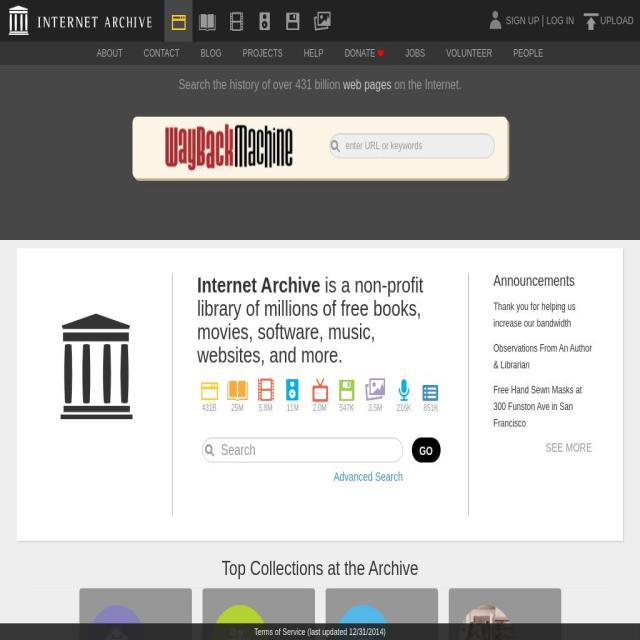button: (136, 122, 320, 172), (582, 8, 634, 34), (333, 468, 403, 485), (411, 438, 441, 462), (224, 374, 250, 399), (362, 374, 388, 399), (392, 374, 416, 399), (446, 48, 492, 61), (255, 374, 278, 399), (308, 374, 331, 399), (335, 374, 358, 399), (198, 374, 220, 399), (282, 374, 304, 399), (420, 374, 442, 399), (503, 14, 542, 28), (243, 48, 283, 61), (344, 48, 384, 61), (143, 48, 180, 61), (544, 14, 577, 28), (513, 48, 544, 61), (96, 48, 123, 61), (200, 48, 222, 61), (405, 48, 426, 61), (304, 48, 324, 61)
field: (201, 438, 403, 462), (329, 134, 495, 158)
heading: (26, 558, 614, 579), (493, 273, 592, 289)
image: (161, 122, 295, 172), (458, 605, 574, 640), (89, 605, 145, 640), (212, 605, 268, 640), (335, 605, 391, 640), (37, 16, 152, 28)
link: (493, 384, 582, 429), (493, 342, 592, 371), (493, 301, 576, 329), (254, 626, 386, 636), (313, 0, 331, 42), (199, 0, 216, 42), (342, 77, 392, 91), (285, 0, 301, 42), (171, 0, 186, 42), (229, 0, 244, 42), (257, 0, 272, 42), (546, 441, 592, 454)
text: (197, 273, 424, 516), (23, 273, 172, 457), (197, 272, 321, 298), (178, 77, 343, 91), (391, 77, 462, 91), (226, 378, 248, 403), (364, 378, 386, 403), (600, 13, 634, 29), (199, 378, 219, 403), (256, 378, 276, 403), (283, 378, 303, 403), (394, 378, 414, 403), (421, 378, 441, 403), (310, 378, 329, 403), (337, 378, 356, 403), (506, 14, 540, 27), (488, 8, 503, 34), (344, 48, 378, 59), (546, 14, 574, 27), (201, 403, 217, 412), (396, 403, 412, 412), (423, 403, 439, 412), (258, 403, 273, 412), (312, 403, 327, 412), (368, 403, 383, 412), (340, 403, 354, 412), (231, 403, 244, 412), (286, 403, 299, 412), (542, 11, 544, 28)
